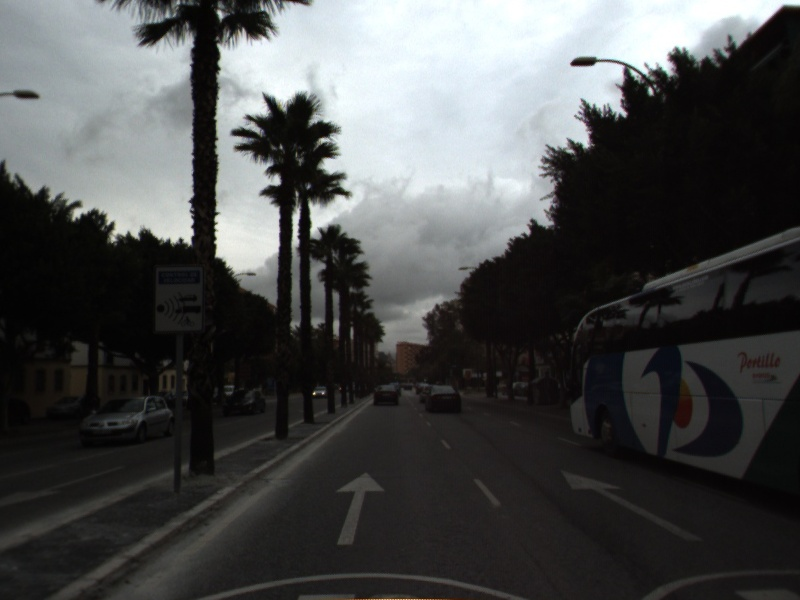STRAIGHT: (558, 466, 706, 544), (333, 470, 387, 547)
